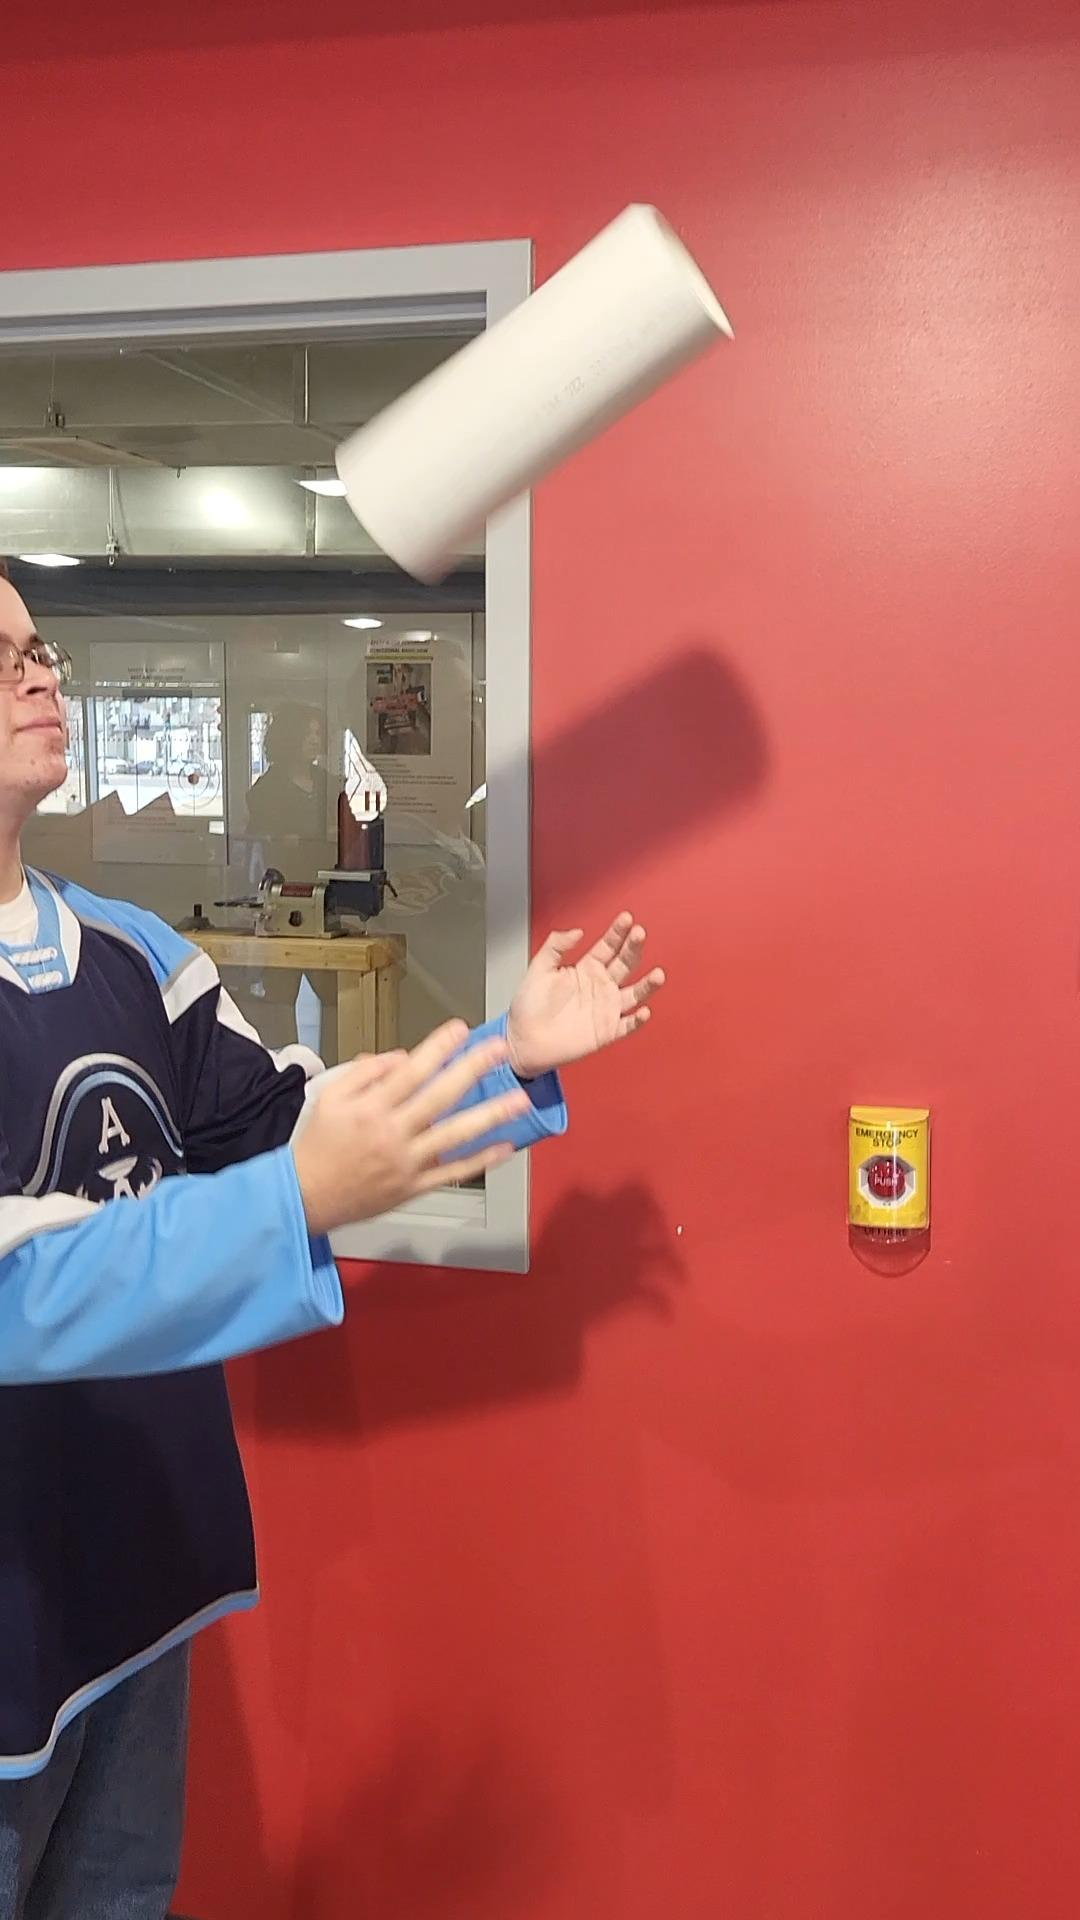coral: (336, 207, 744, 587)
